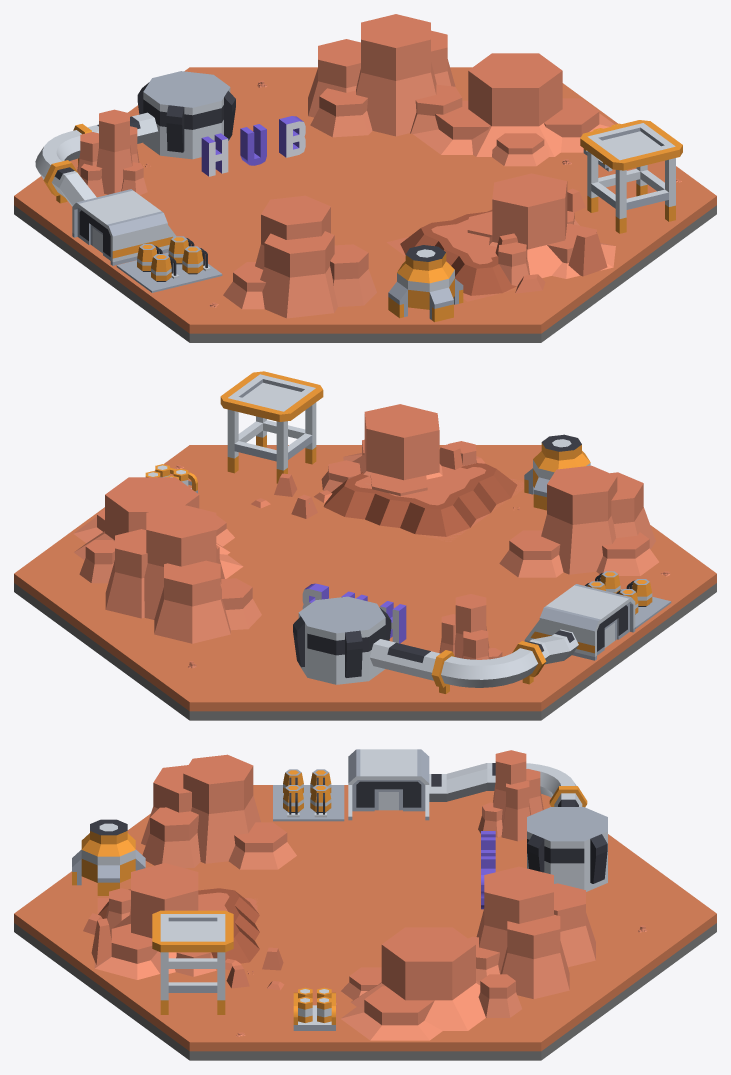
The model's file is Hub-without ground.fbx.
3 views of the same model, one above another, from view 1: azimuth 30°, elevation 25°; view 2: azimuth 150°, elevation 25°; view 3: azimuth 270°, elevation 25° (orthographic).
Parts seen in each view (by area): view 1: mergedBlocks; view 2: mergedBlocks; view 3: mergedBlocks.
Boxes of the visible parts, <box> form: mergedBlocks: <box>14,14,716,342</box>; mergedBlocks: <box>14,371,716,720</box>; mergedBlocks: <box>14,749,716,1060</box>.
Bounding box in the file's own units: 600 × 198 × 693.
